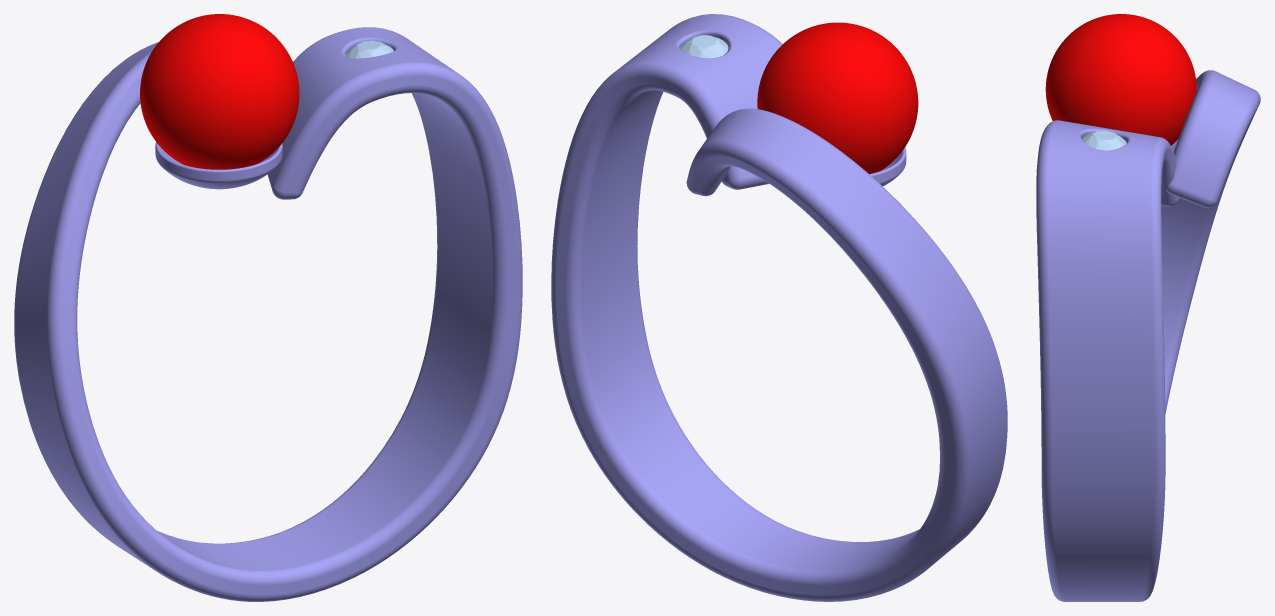
3 renders of one model, left to right at view 1: azimuth 30°, elevation 25°; view 2: azimuth 150°, elevation 25°; view 3: azimuth 270°, elevation 25°, orthographic. The views are drawn at different scales.
Visible parts, largest first — view 1: Anel Perola Pedra Render.3dm; view 2: Anel Perola Pedra Render.3dm, ROUND; view 3: Anel Perola Pedra Render.3dm, ROUND.
Part boxes in pixels (<box>): Anel Perola Pedra Render.3dm: <box>14,14,522,601</box>; Anel Perola Pedra Render.3dm: <box>551,14,1007,601</box>; ROUND: <box>680,35,728,58</box>; Anel Perola Pedra Render.3dm: <box>1036,14,1260,601</box>; ROUND: <box>1082,130,1126,150</box>.
Size of the model in its own units: 2.39 by 3 by 1.14.
